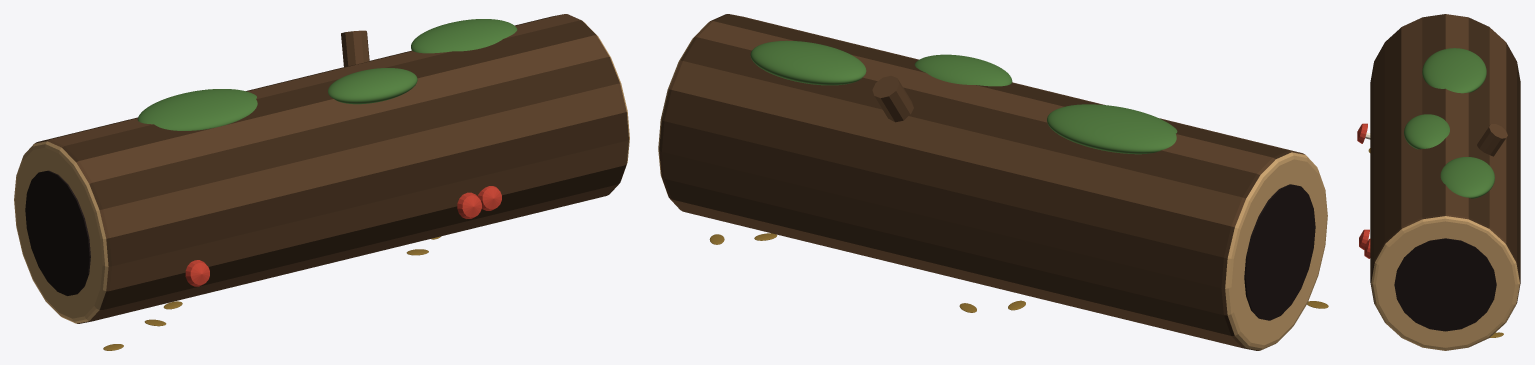
The model's file is tronco.glb.
The picture shows the model from 3 angles, left to right: view 1: azimuth 30°, elevation 25°; view 2: azimuth 150°, elevation 25°; view 3: azimuth 270°, elevation 25°; orthographic projection. The views are drawn at different scales.
Visible parts, largest first — view 1: tronco, hueco-1, musgo0, musgo2, musgo1, rama, sombrero0, sombrero2; view 2: tronco, hueco-1, musgo0, musgo2, musgo1, rama; view 3: tronco, hueco1, musgo0, musgo2, musgo1, rama, sombrero2, sombrero0.
Boxes of the visible parts, x1=… form: tronco: x1=14, y1=14, x2=629, y2=323; hueco-1: x1=25, y1=170, x2=90, y2=295; musgo0: x1=137, y1=89, x2=257, y2=130; musgo2: x1=411, y1=19, x2=517, y2=53; musgo1: x1=328, y1=68, x2=417, y2=104; rama: x1=341, y1=30, x2=369, y2=66; sombrero0: x1=457, y1=192, x2=481, y2=218; sombrero2: x1=185, y1=260, x2=209, y2=286; tronco: x1=658, y1=14, x2=1327, y2=350; hueco-1: x1=1244, y1=184, x2=1315, y2=320; musgo0: x1=1047, y1=104, x2=1177, y2=154; musgo2: x1=750, y1=40, x2=866, y2=85; musgo1: x1=914, y1=54, x2=1012, y2=86; rama: x1=872, y1=76, x2=913, y2=122; tronco: x1=1370, y1=14, x2=1520, y2=350; hueco1: x1=1394, y1=238, x2=1496, y2=331; musgo0: x1=1422, y1=48, x2=1486, y2=93; musgo2: x1=1440, y1=157, x2=1494, y2=198; musgo1: x1=1404, y1=114, x2=1449, y2=149; rama: x1=1477, y1=124, x2=1507, y2=156; sombrero2: x1=1357, y1=123, x2=1367, y2=143; sombrero0: x1=1359, y1=229, x2=1369, y2=249.
Size of the model in its own units: 2.71 by 0.9218 by 0.9134.
